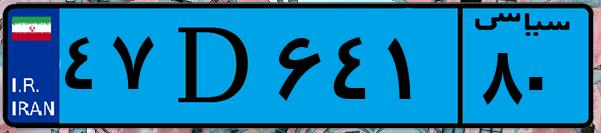0: (525, 38, 570, 115)
1: (385, 28, 445, 110)
4: (330, 28, 385, 110), (57, 26, 110, 100)
6: (270, 28, 330, 110)
7: (110, 28, 158, 98)
8: (475, 38, 525, 113)
D: (158, 12, 270, 120)
